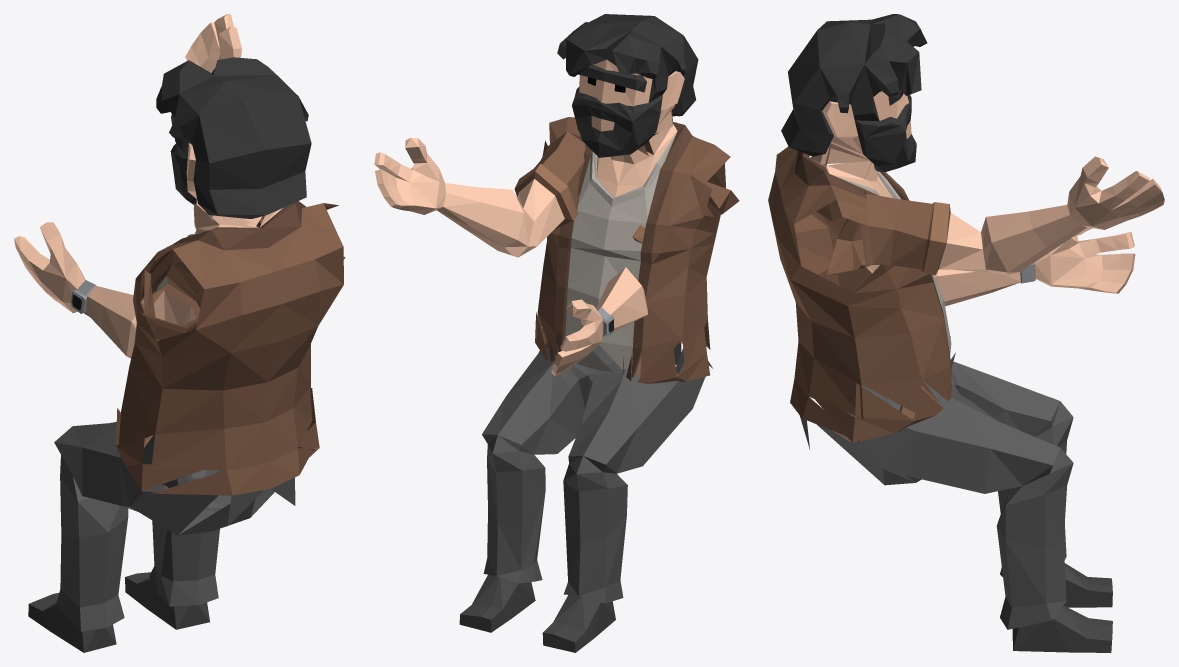
Rendered from Satan_beckon.obj.
3 renders of one model, left to right at view 1: azimuth 30°, elevation 25°; view 2: azimuth 150°, elevation 25°; view 3: azimuth 270°, elevation 25°, orthographic. The views are drawn at different scales.
Parts seen in each view (by area): view 1: Satan_beckon; view 2: Satan_beckon; view 3: Satan_beckon.
Boxes of the visible parts, left/top/right/bottom form: Satan_beckon: left=14, top=14, right=345, bottom=652; Satan_beckon: left=374, top=14, right=739, bottom=652; Satan_beckon: left=768, top=14, right=1164, bottom=652.
Size of the model in its own units: 0.6402 by 1.49 by 0.8927.
Materials: 1 (1 with a texture image).
